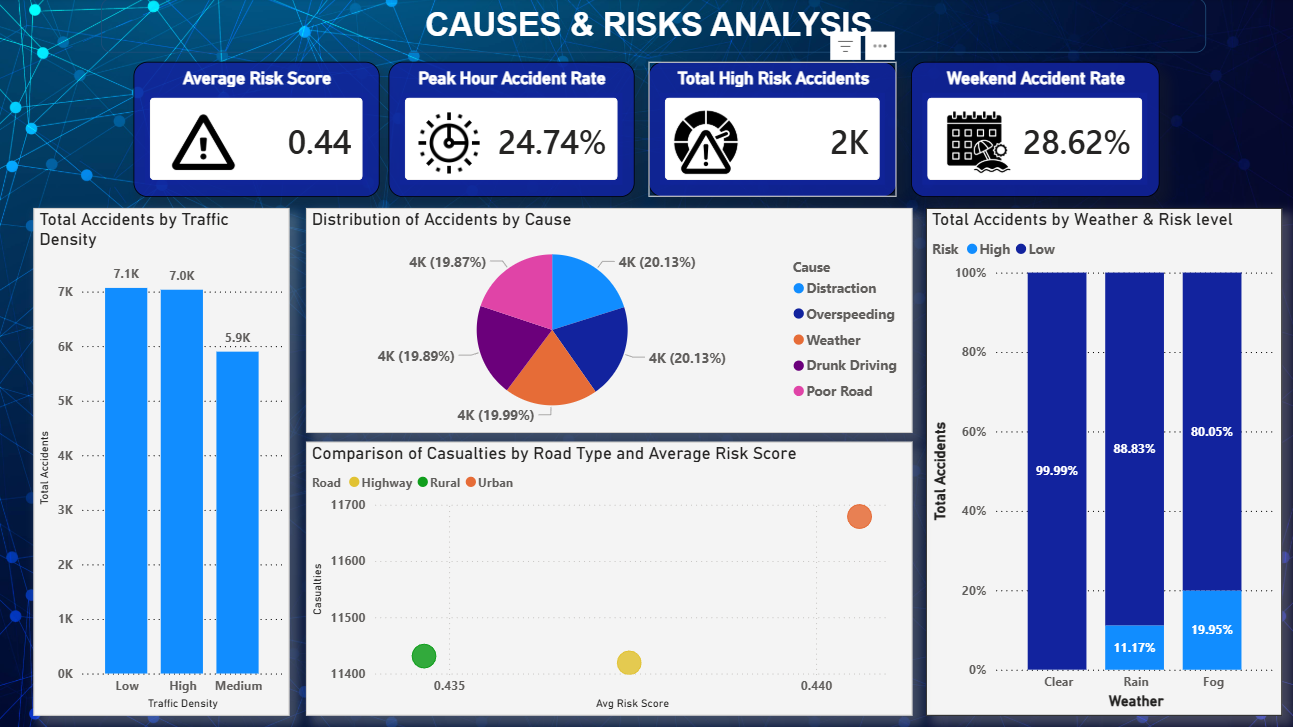

What the dashboard file says about the page in this screenshot:
{"tool":"powerbi","page":{"name":"Causes & Risks","canvas":[1280,720],"ordinal":1},"visuals":[{"type":"textbox","box":[103.1,0,1084.7,54],"z":0},{"type":"cardVisual","title":"Average Risk Score","fields":{"Data":["Table.Avg Risk Score"]},"box":[135,62.5,241.2,132.5],"z":1000},{"type":"cardVisual","title":"Peak Hour Accident Rate","fields":{"Data":["Table.Peak Hour Acc percent"]},"box":[385,62.5,241.2,132.5],"z":2000},{"type":"cardVisual","title":"Total High Risk Accidents","fields":{"Data":["Table.High Risk Accidents"]},"box":[640,62.5,243.8,132.5],"z":3000},{"type":"cardVisual","title":"Weekend Accident Rate","fields":{"Data":["Table.Weekend Accident %"]},"box":[898.8,62.5,243.8,132.5],"z":4000},{"type":"clusteredColumnChart","title":"Total Accidents by Traffic Density","fields":{"Category":["indian_roads_dataset.traffic_density"],"Y":["Table.Total Accidents"]},"box":[36.8,206.1,251.5,498.2],"z":5000},{"type":"pieChart","title":"Distribution of Accidents by Cause","fields":{"Y":["Table.Total Accidents"],"Category":["indian_roads_dataset.cause"]},"box":[304.3,206.1,595.1,220.9],"z":6000},{"type":"hundredPercentStackedColumnChart","title":"Total Accidents by Weather & Risk level","fields":{"Category":["indian_roads_dataset.weather"],"Series":["indian_roads_dataset.Risk_level"],"Y":["Table.Total Accidents"]},"box":[912.9,206.1,349.7,498.2],"z":7000},{"type":"scatterChart","title":"Distribution of Casualties by Road Type and Average Risk Score","fields":{"Y":["Sum(indian_roads_dataset.casualties)"],"X":["Table.Avg Risk Score"],"Size":["Table.Total Accidents"],"Series":["indian_roads_dataset.road_type"]},"box":[304.3,435.6,595.1,268.7],"z":8000},{"type":"image","box":[657.7,109.2,78.5,65],"z":9000},{"type":"image","box":[414.7,104.3,60.1,76.1],"z":10000},{"type":"image","box":[163.2,109.2,81,65],"z":11000},{"type":"image","box":[925.2,109.2,79.8,65],"z":12000}]}

Visuals, with their boxes in screenshot pixels (x1, y1, x2, y2), scaled from the page's 1280x720 canvas onto the 1293x727 screenshot:
textbox: region(104, 0, 1200, 55)
"Average Risk Score" cardVisual: region(136, 63, 380, 197)
"Peak Hour Accident Rate" cardVisual: region(389, 63, 633, 197)
"Total High Risk Accidents" cardVisual: region(646, 63, 893, 197)
"Weekend Accident Rate" cardVisual: region(908, 63, 1154, 197)
"Total Accidents by Traffic Density" clusteredColumnChart: region(37, 208, 291, 711)
"Distribution of Accidents by Cause" pieChart: region(307, 208, 909, 431)
"Total Accidents by Weather & Risk level" hundredPercentStackedColumnChart: region(922, 208, 1275, 711)
"Distribution of Casualties by Road Type and Average Risk Score" scatterChart: region(307, 440, 909, 711)
image: region(664, 110, 744, 176)
image: region(419, 105, 480, 182)
image: region(165, 110, 247, 176)
image: region(935, 110, 1015, 176)
